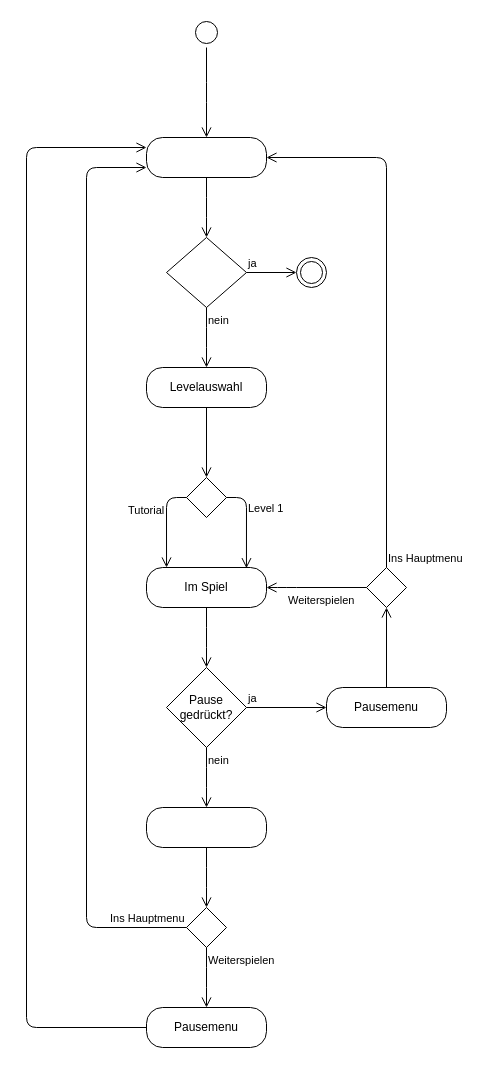
Image size: 481x1065. Some labels were removed from this diagram. Here are the shapes that lost their labels. From the top down, the centre of each, then its label:
At point (206, 157): "Startbildschirm".
At point (206, 272): "Spiel beenden?".
At point (206, 827): "Endbildschrim".
